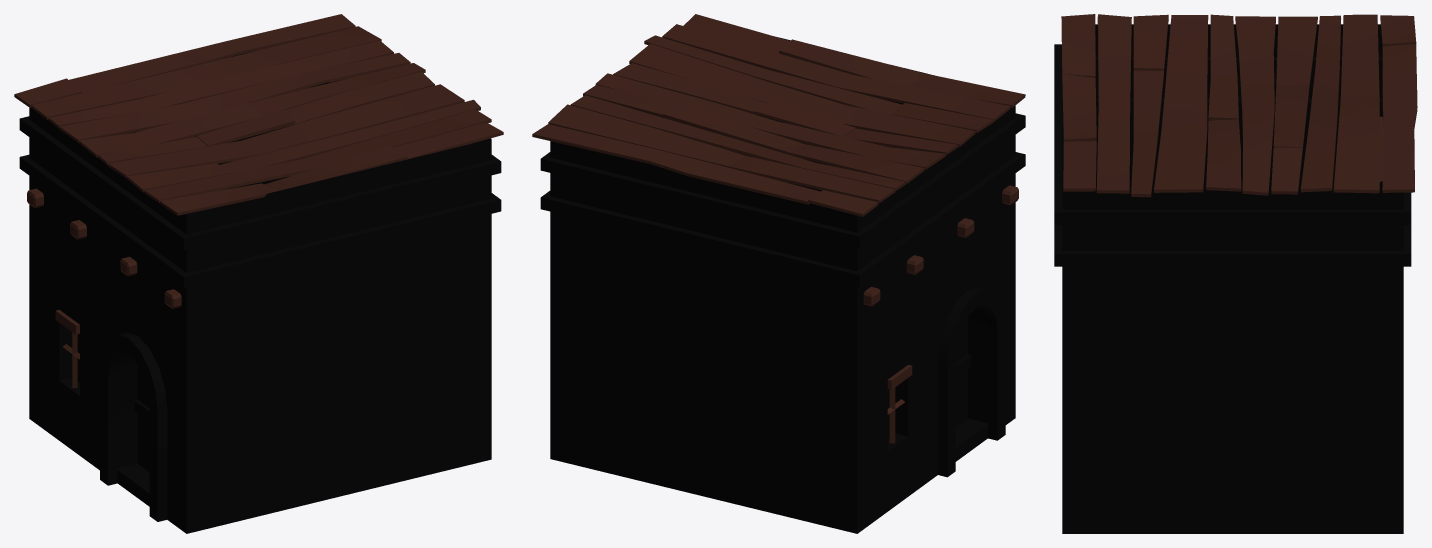
The model's file is civilian_house_44.FBX.
3 renders of one model, left to right at view 1: azimuth 30°, elevation 25°; view 2: azimuth 150°, elevation 25°; view 3: azimuth 270°, elevation 25°, orthographic. The views are drawn at different scales.
Visible parts, largest first — view 1: civilian_house_44; view 2: civilian_house_44; view 3: civilian_house_44.
Part boxes in pixels (box(x1,y1,x2,y2)): civilian_house_44: box(14, 14, 503, 533); civilian_house_44: box(532, 14, 1025, 533); civilian_house_44: box(1054, 14, 1417, 533).
Bounding box in the file's own units: 624 × 571 × 532.
